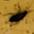cockroach: (8, 10, 28, 24)
